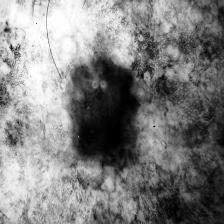Benign Marking or Mole: (65, 57, 139, 166)
